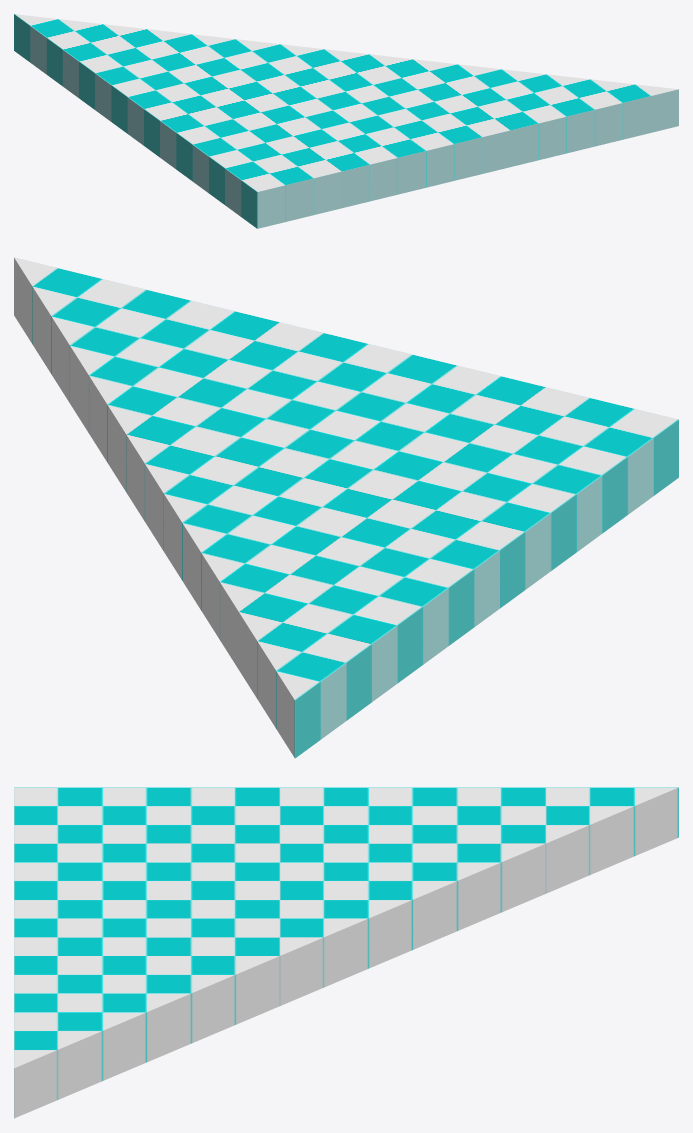
The model's file is CorridorFloor_03.fbx.
3 views of the same model, one above another, from view 1: azimuth 30°, elevation 25°; view 2: azimuth 150°, elevation 25°; view 3: azimuth 270°, elevation 25° (orthographic). The views are drawn at different scales.
Visible parts, largest first — view 1: CorridorFloor_03; view 2: CorridorFloor_03; view 3: CorridorFloor_03.
Boxes of the visible parts, left/top/right/bottom form: CorridorFloor_03: left=14, top=14, right=678, bottom=228; CorridorFloor_03: left=14, top=257, right=678, bottom=758; CorridorFloor_03: left=14, top=787, right=678, bottom=1118.
Bounding box in the file's own units: 236 × 236 × 19.69.
1 material, 1 textured.
